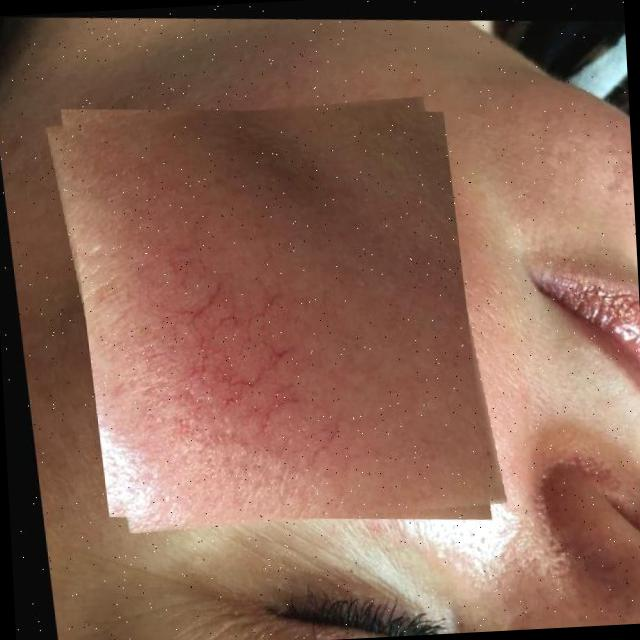redness: (89, 108, 469, 515)
